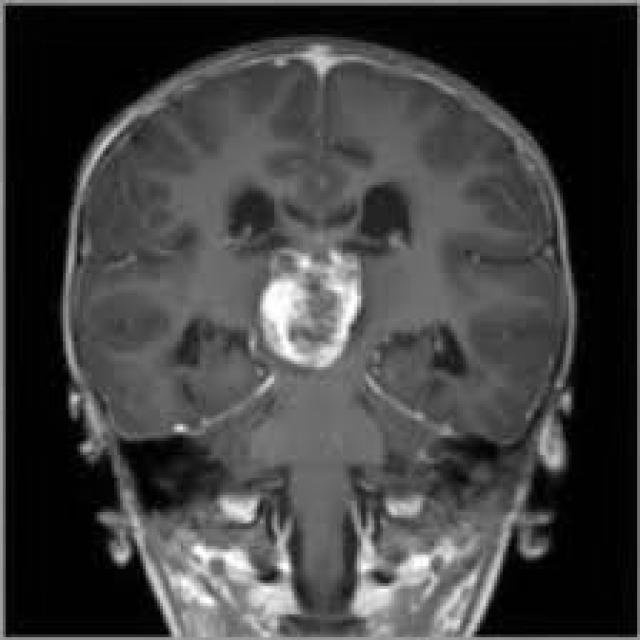glioma: (244, 211, 378, 385)
